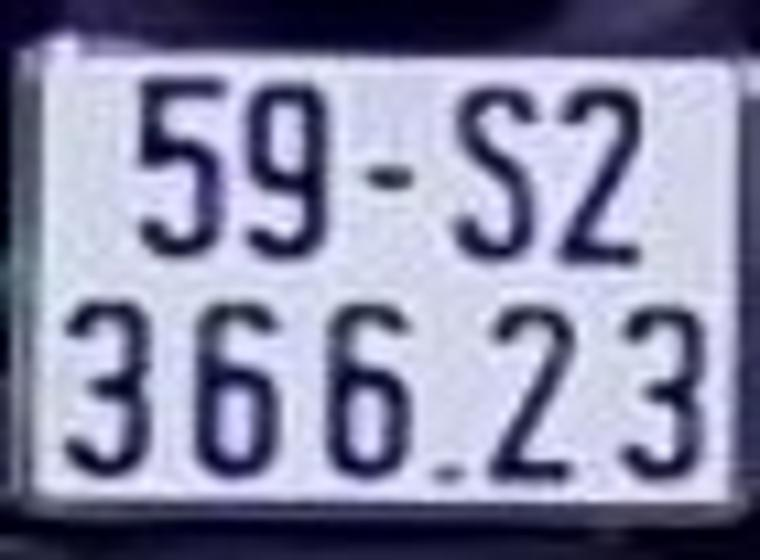-: (360, 149, 439, 195)
.: (432, 438, 475, 489)
2: (486, 300, 580, 487), (563, 82, 658, 266)
3: (614, 295, 714, 482), (66, 297, 162, 476)
5: (131, 65, 242, 269)
6: (321, 300, 414, 479), (201, 289, 284, 479)
9: (249, 70, 341, 264)
S: (446, 77, 547, 257)
